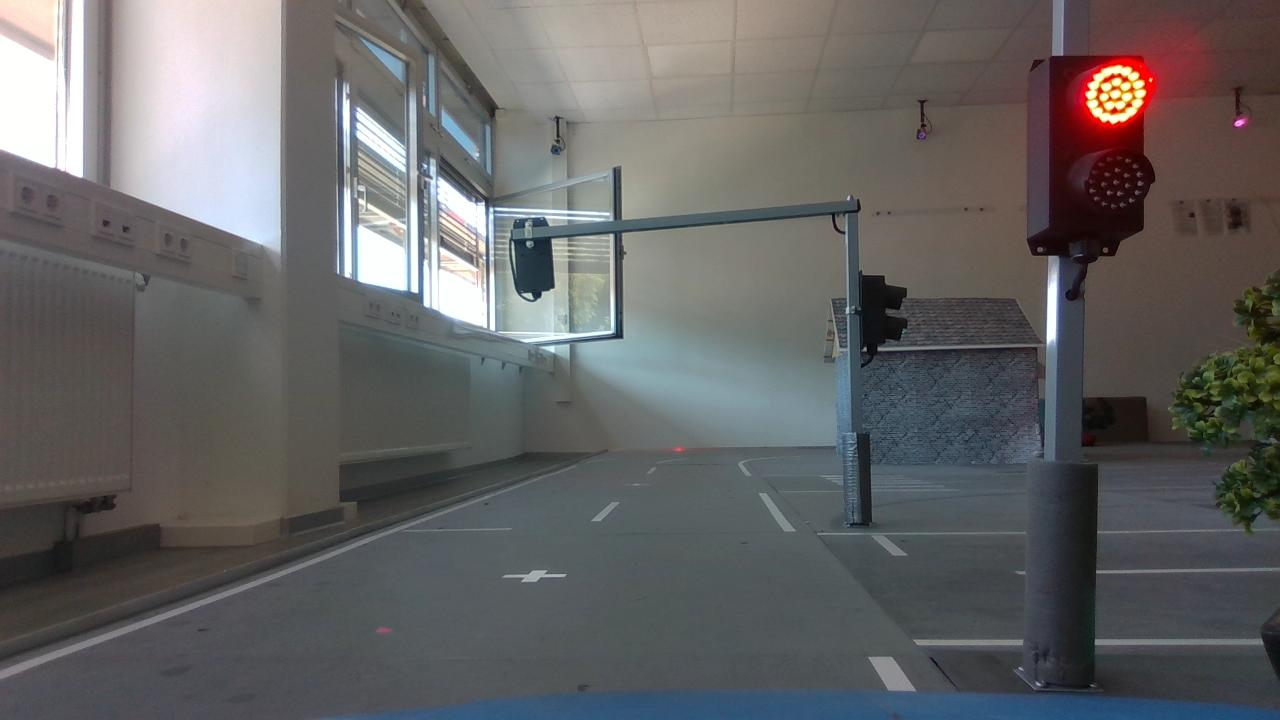traffic_light_red: (1009, 45, 1173, 273)
